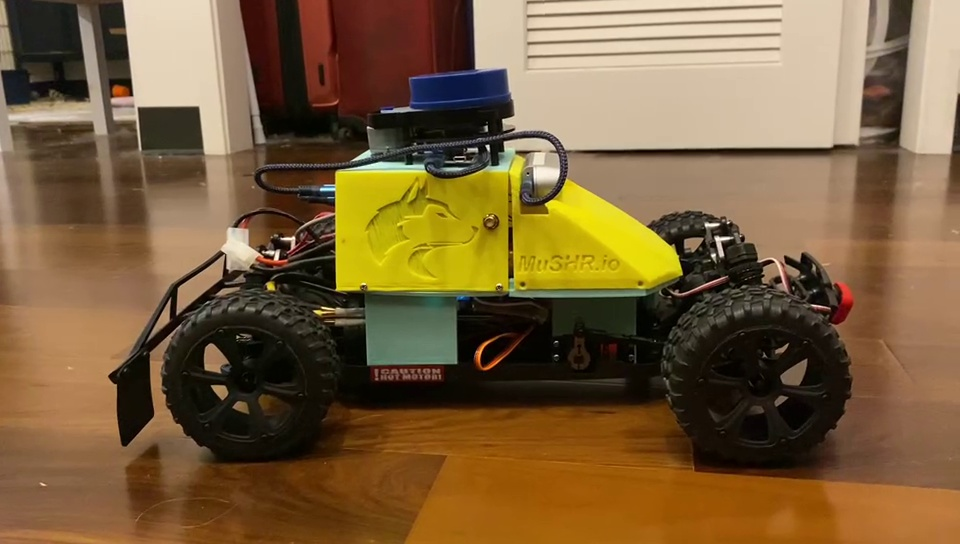mushr_car: (98, 71, 864, 474)
